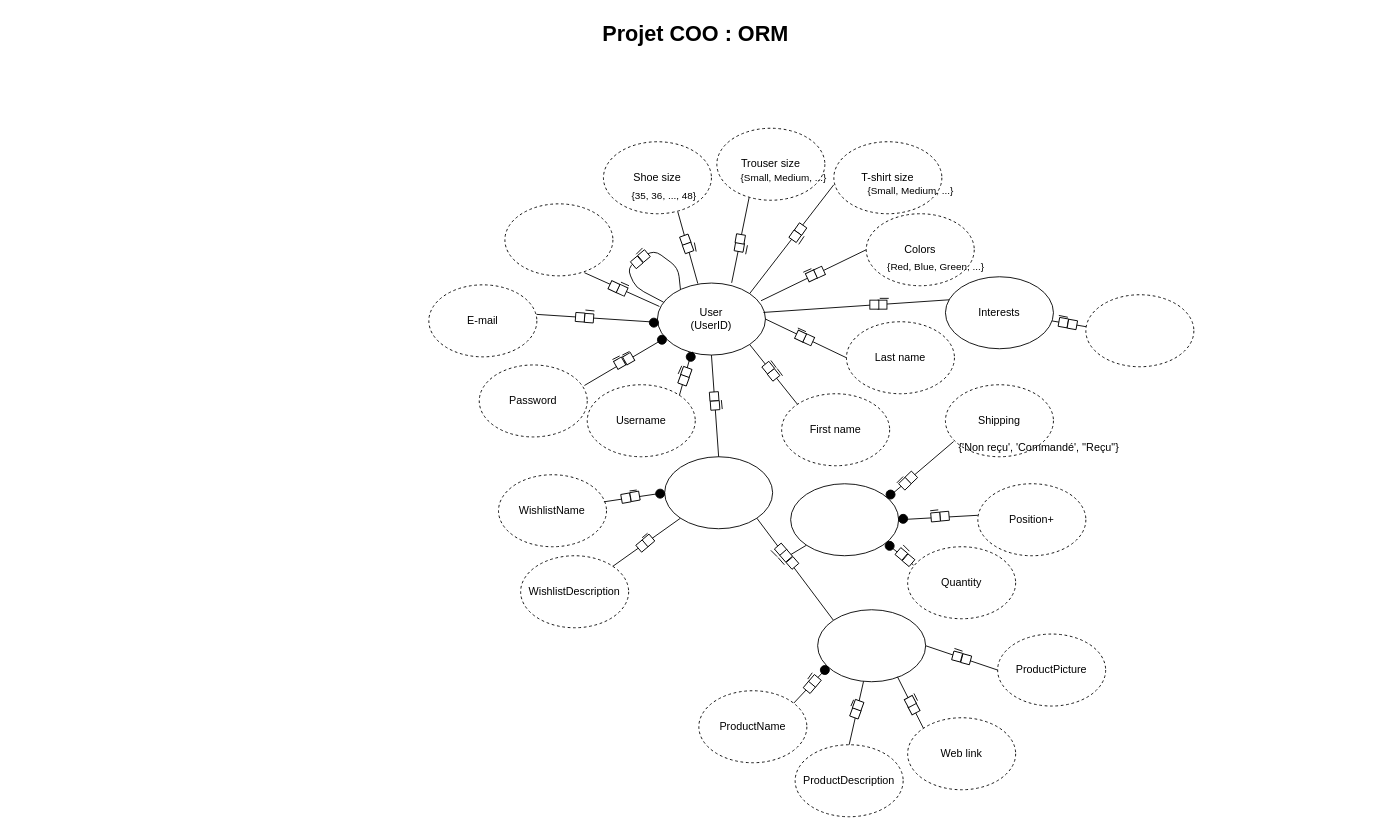
The diagram is 1390 pixels wide and 833 high, and some of its shapes have lost their labels. Each missing label, with the centre of its shape:
Adress: [558,239]
InterestName: [1139,330]
Product (ProductID): [871,645]
Wishlist (ListID): [718,492]
Wishlist has products: [844,519]
